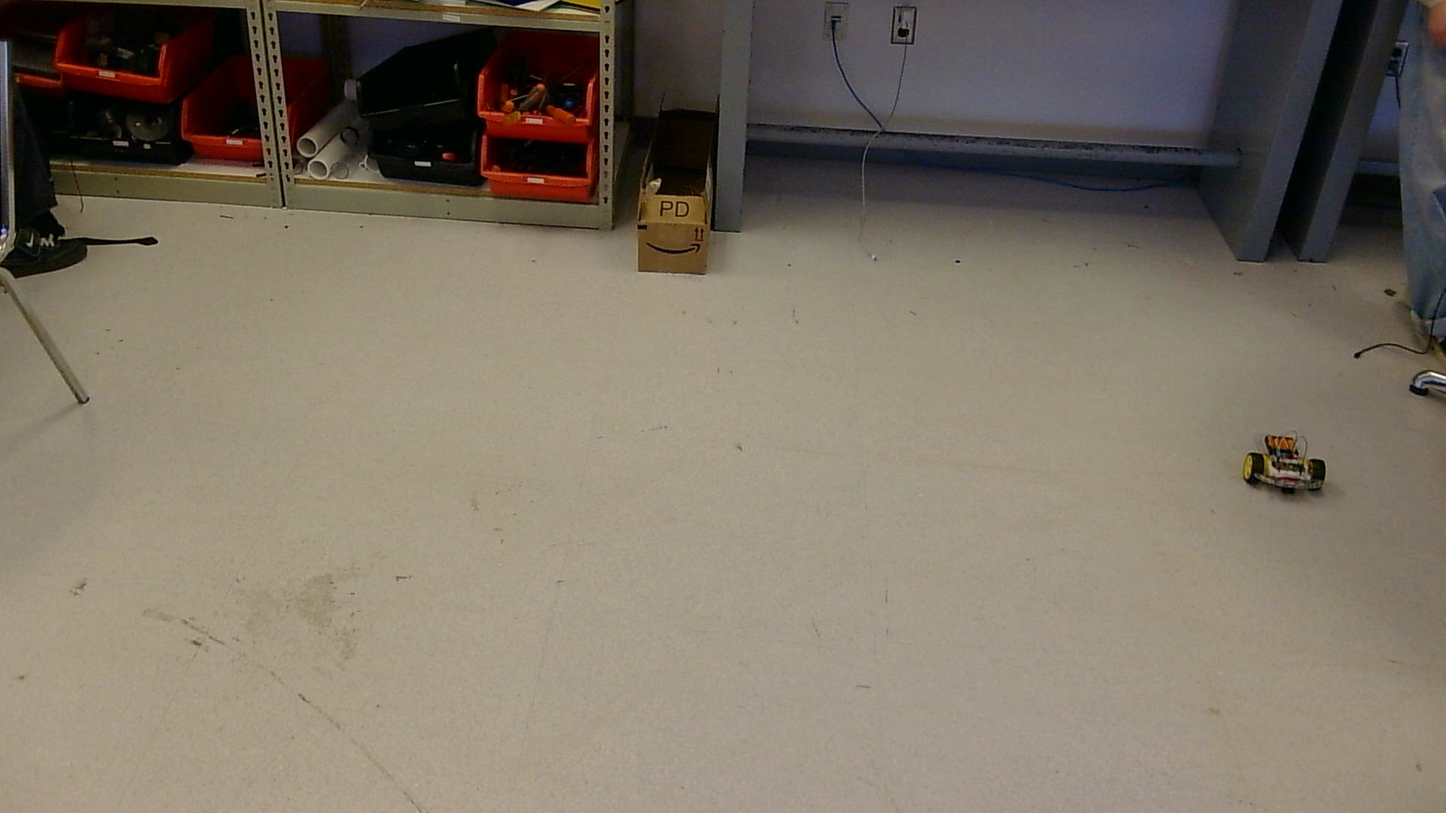robot: (1242, 431, 1326, 492)
